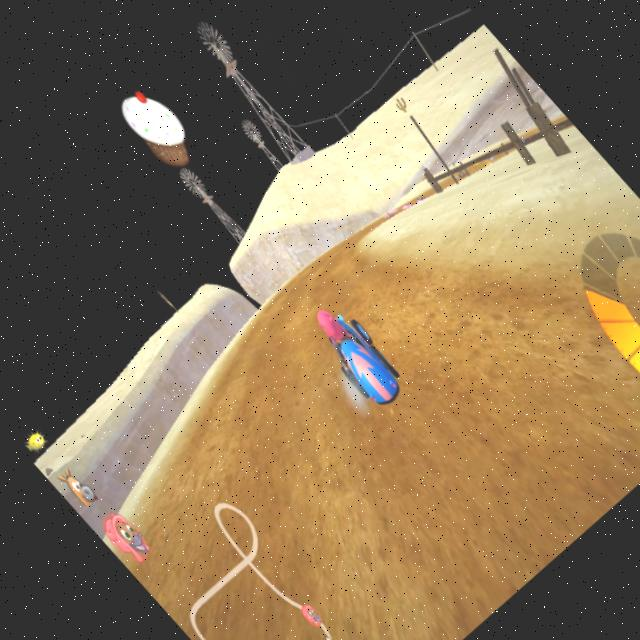off_track: (395, 89, 609, 293)
player_kart: (293, 294, 414, 420)
track: (133, 327, 475, 640), (281, 229, 373, 314)
